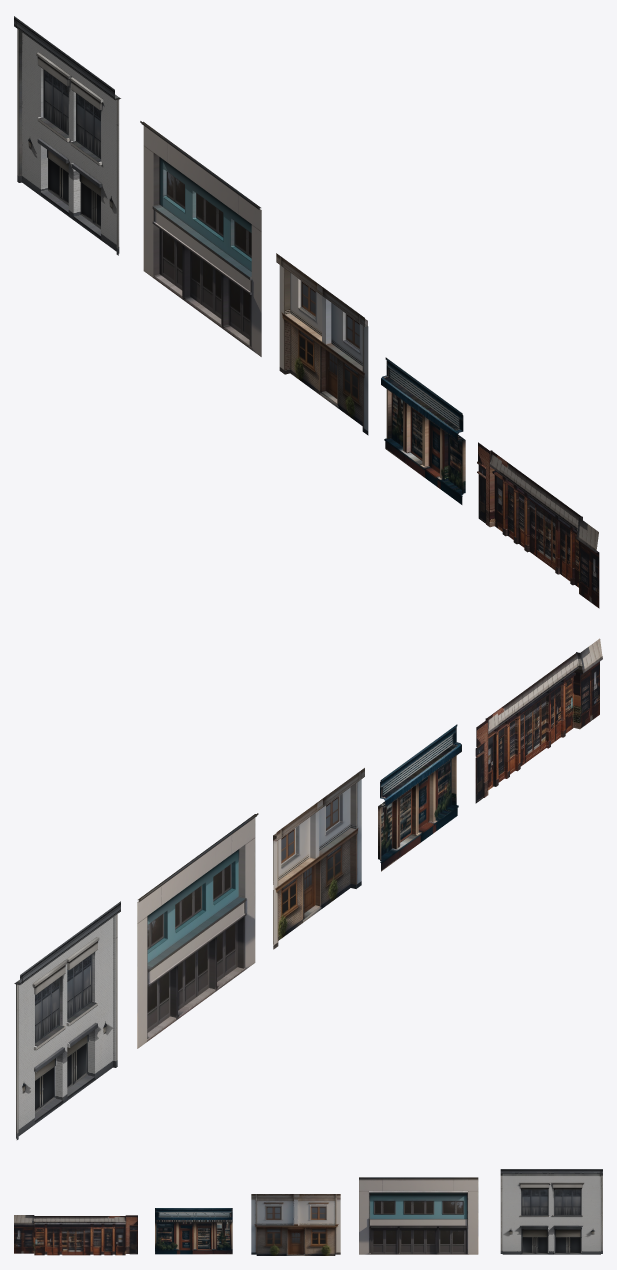
Rendered from bg buildings.fbx.
The picture shows the model from 3 angles, top to bottom: view 1: azimuth 30°, elevation 25°; view 2: azimuth 150°, elevation 25°; view 3: azimuth 270°, elevation 25°; orthographic projection. The views are drawn at different scales.
Parts seen in each view (by area): view 1: Building_2, Building_1, Building_3, Building_5, building_4; view 2: Building_2, Building_1, Building_3, Building_5, building_4; view 3: Building_2, Building_1, Building_3, Building_5, building_4.
Part boxes in pixels (bbox=[...]): Building_2: bbox=[140, 121, 261, 356]; Building_1: bbox=[14, 16, 120, 255]; Building_3: bbox=[276, 253, 368, 435]; Building_5: bbox=[477, 442, 599, 608]; building_4: bbox=[381, 357, 465, 504]; Building_2: bbox=[137, 813, 258, 1048]; Building_1: bbox=[14, 901, 120, 1140]; Building_3: bbox=[273, 768, 364, 949]; Building_5: bbox=[475, 638, 602, 803]; building_4: bbox=[378, 724, 461, 871]; Building_2: bbox=[359, 1177, 478, 1254]; Building_1: bbox=[500, 1169, 602, 1254]; Building_3: bbox=[251, 1194, 340, 1255]; Building_5: bbox=[14, 1215, 137, 1255]; building_4: bbox=[155, 1208, 232, 1254].
Bounding box in the file's own units: 0.79 × 48.45 × 7.65.
Materials: 5 (5 with a texture image).
